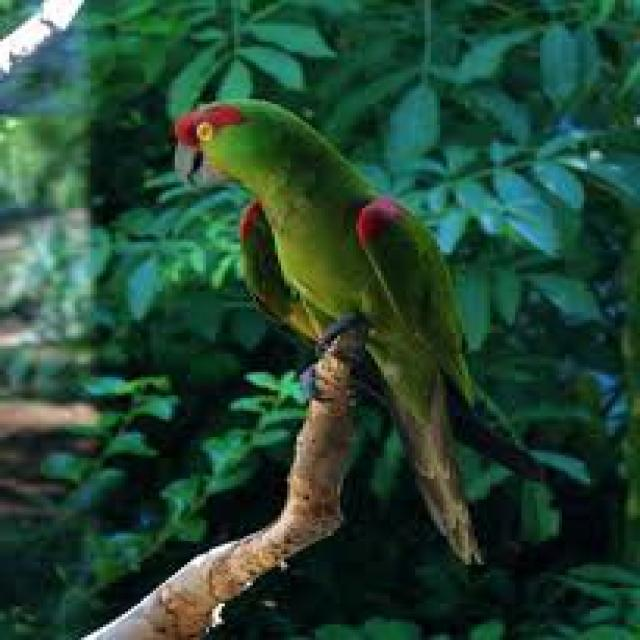parrot: (178, 99, 475, 437)
